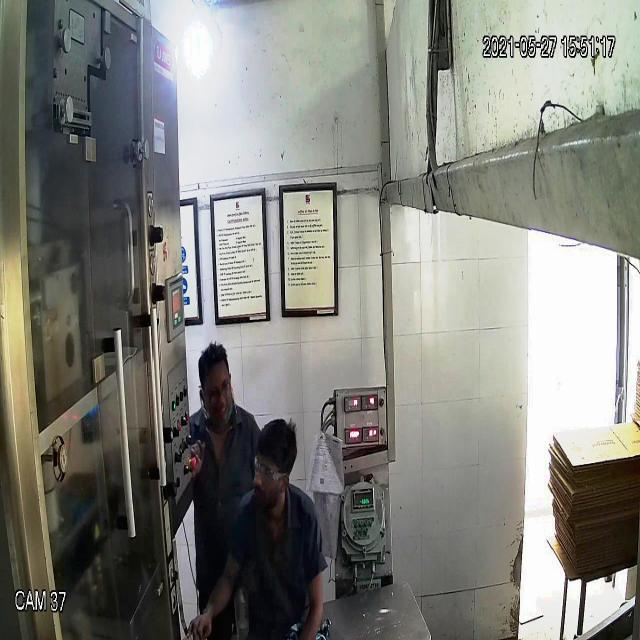glasses: (252, 450, 294, 484), (199, 377, 233, 409)
